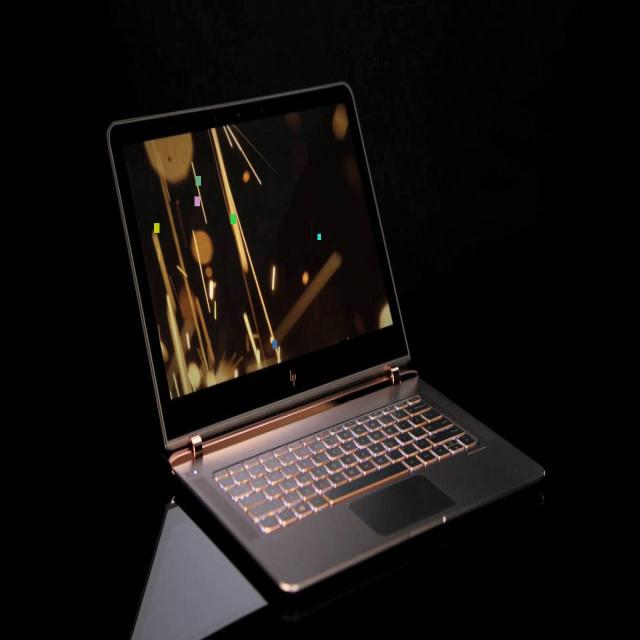dead_pixel: (230, 214, 236, 223), (194, 196, 200, 205), (154, 223, 159, 232), (196, 176, 200, 185), (272, 340, 276, 348), (318, 234, 320, 239)
